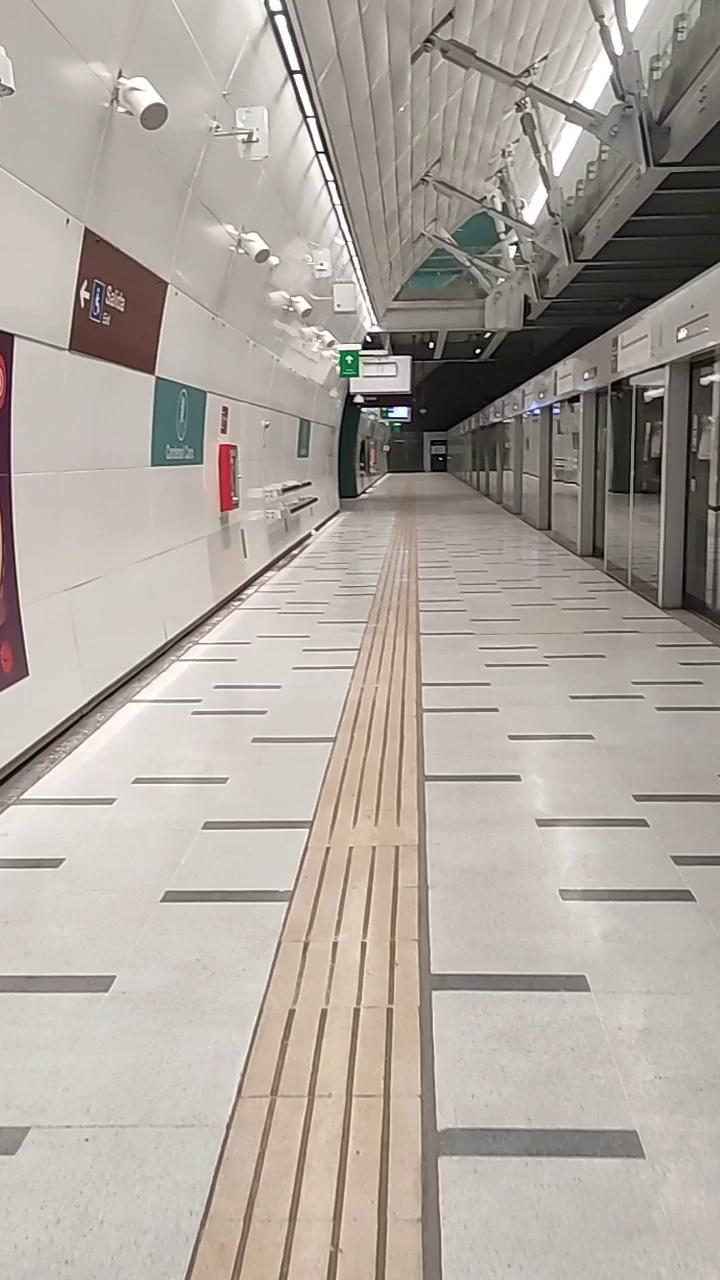handicapped symbol: (89, 280, 104, 324)
left arrow: (76, 279, 92, 310)
